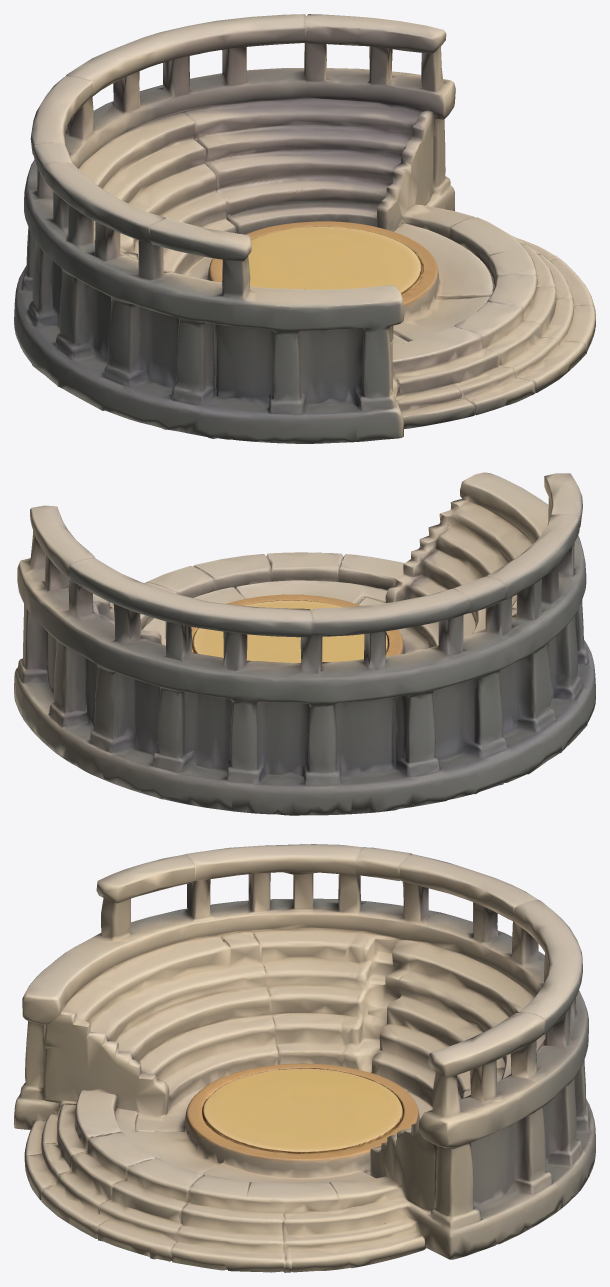
Rendered from colosseum.glb.
3 renders of one model, top to bottom at view 1: azimuth 30°, elevation 25°; view 2: azimuth 150°, elevation 25°; view 3: azimuth 270°, elevation 25°, orthographic.
Visible parts, largest first — view 1: tripo_node_a1a19678-5b8e-4e81-9568-f35c4c6dd42c; view 2: tripo_node_a1a19678-5b8e-4e81-9568-f35c4c6dd42c; view 3: tripo_node_a1a19678-5b8e-4e81-9568-f35c4c6dd42c.
Part boxes in pixels (bbox=[...]): tripo_node_a1a19678-5b8e-4e81-9568-f35c4c6dd42c: bbox=[14, 14, 595, 443]; tripo_node_a1a19678-5b8e-4e81-9568-f35c4c6dd42c: bbox=[14, 472, 595, 815]; tripo_node_a1a19678-5b8e-4e81-9568-f35c4c6dd42c: bbox=[14, 844, 595, 1272].
Bounding box in the file's own units: 0.9892 × 0.3693 × 0.9941.
1 material, 1 textured.
